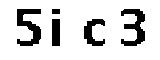3: (117, 5, 148, 50)
5: (11, 5, 44, 51)
c: (80, 15, 109, 51)
i: (51, 3, 66, 52)
